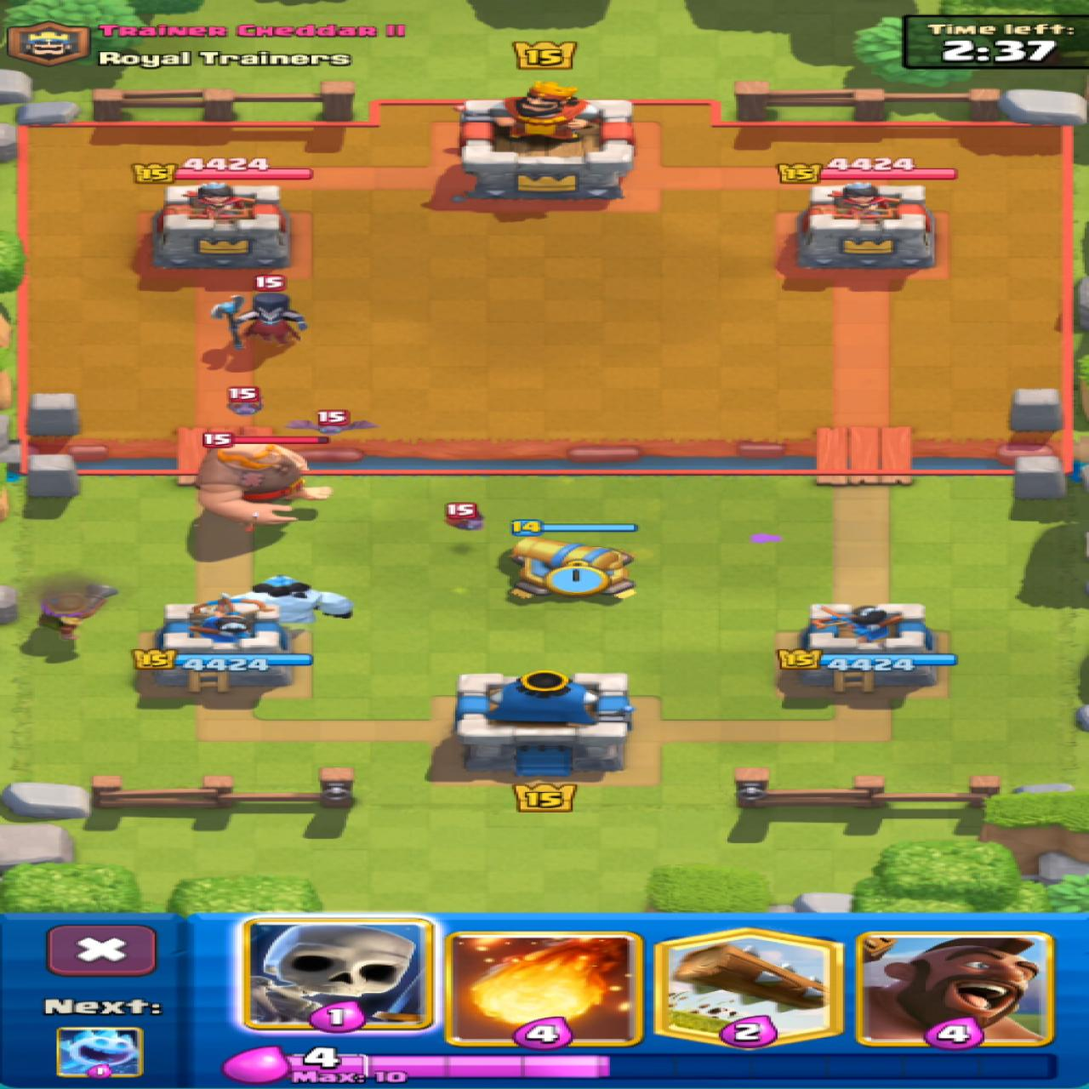Enemy-Bat: (290, 409, 375, 435), (446, 503, 479, 530), (229, 389, 261, 414)
Enemy-Giant: (196, 443, 329, 528)
Enemy-KingTower: (457, 83, 634, 199)
Enemy-NightWitch: (211, 290, 305, 348), (257, 277, 281, 287)
Enemy-PrincessTower: (797, 184, 934, 268), (155, 182, 290, 266)
